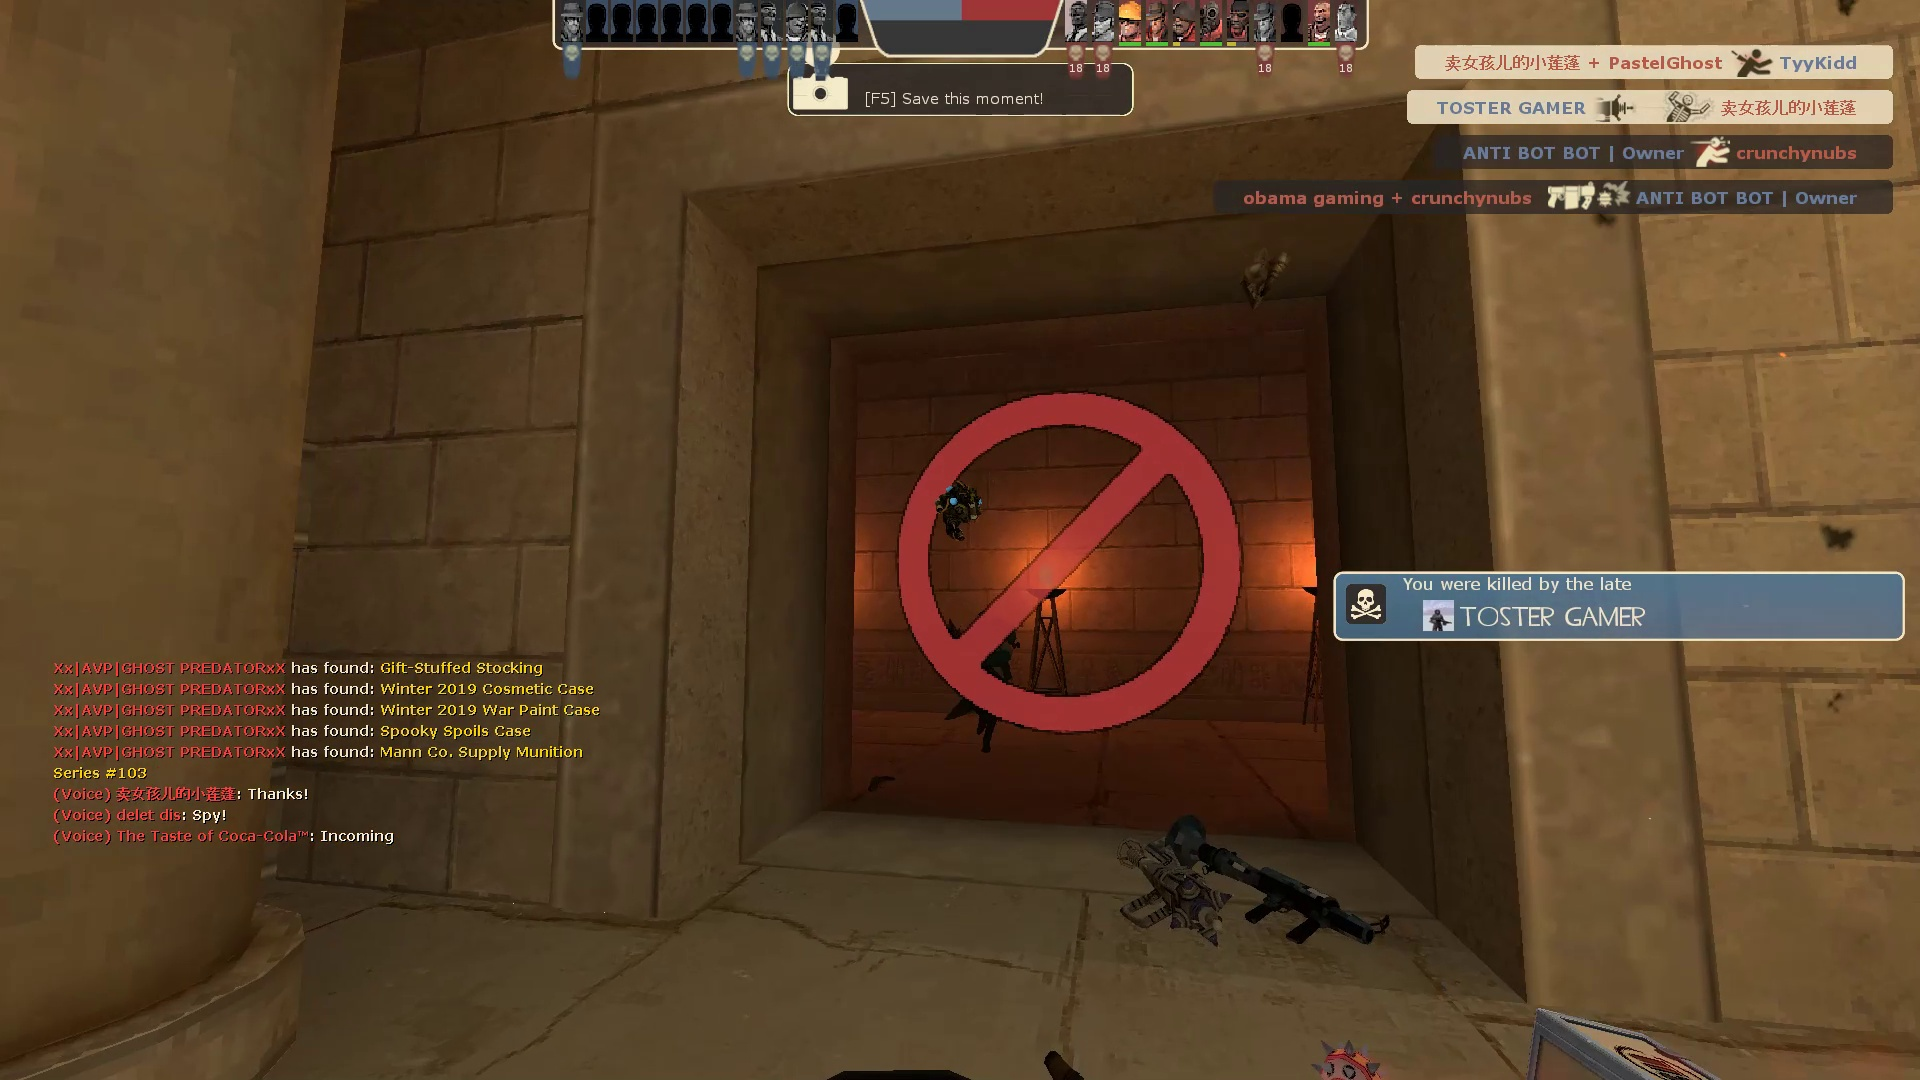blu_medic: (934, 607, 1027, 760)
